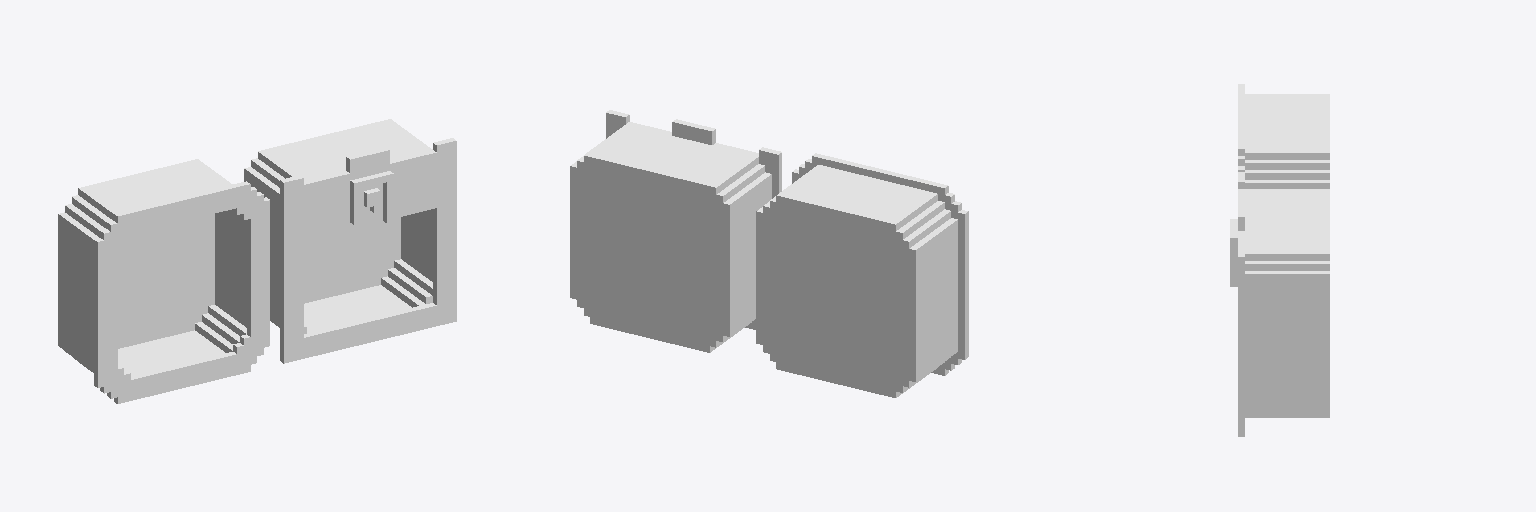
The model's file is HudElement03.obj.
3 views of the same model, side by side, from view 1: azimuth 30°, elevation 25°; view 2: azimuth 150°, elevation 25°; view 3: azimuth 270°, elevation 25° (orthographic).
Parts seen in each view (by area): view 1: object 1; view 2: object 1; view 3: object 1.
Part boxes in pixels (x1,y1,x2,y2): object 1: (58,119,456,403); object 1: (570,110,968,397); object 1: (1230,84,1329,436).
Size of the model in its own units: 5.4 by 2.7 by 1.3.